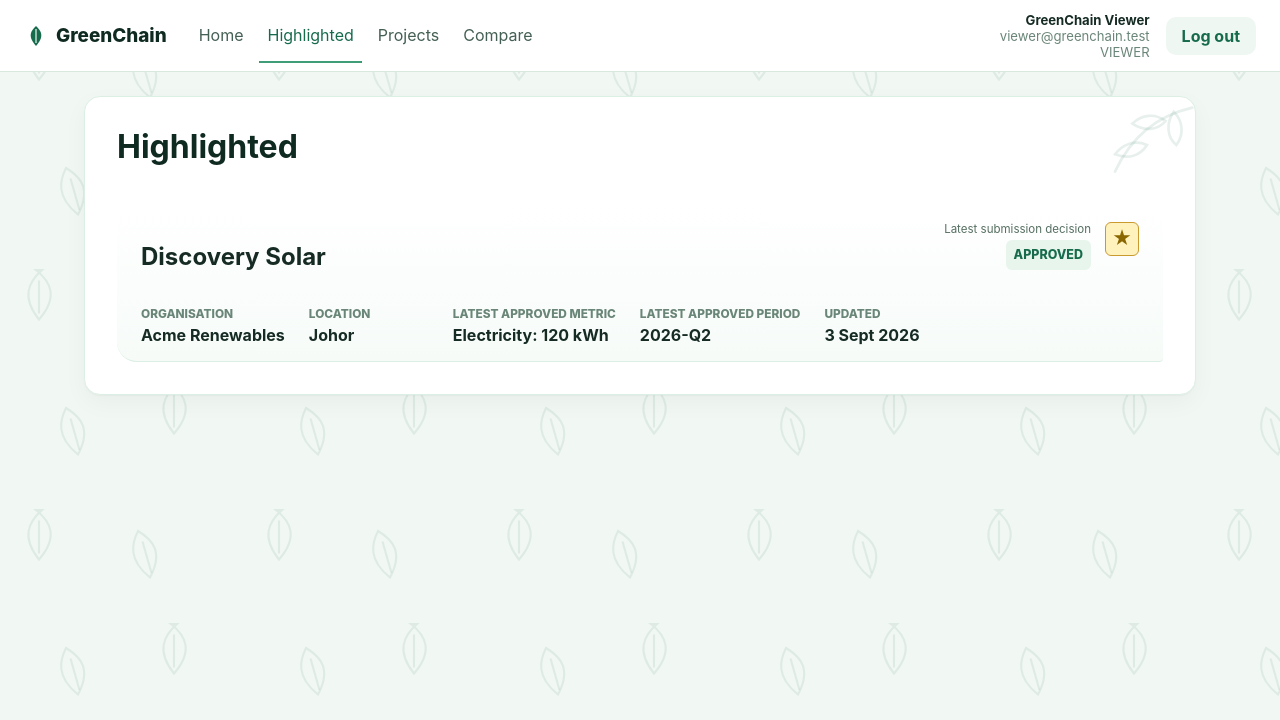
Test case: Sprint 7 discovery and highlighted workflow › highlighted page lists saved projects and removes them
Check: the heading "Highlighted" is shown, box [117,127,298,166]
Check: the heading "Discovery Solar" is shown, box [141,242,326,271]
Step 1. Click the button named "Remove Discovery Solar from Highlighted" → (1122, 239), box [1105,222,1139,256]
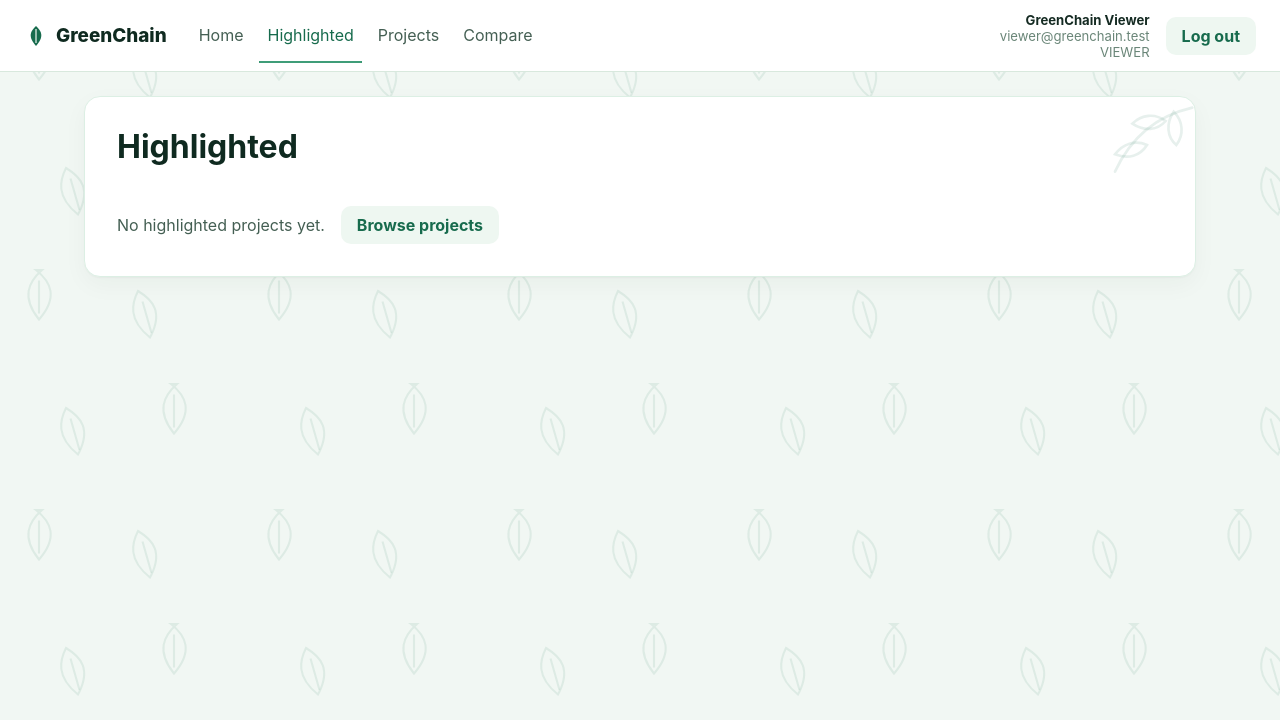
Check: the text "No highlighted projects yet." is shown, box [117,215,325,235]
